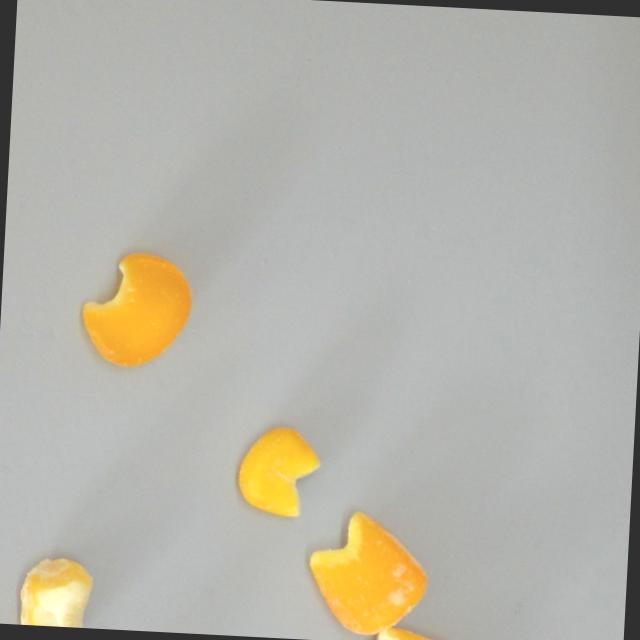no_canjicado: (78, 247, 197, 370), (239, 424, 319, 517)
pelicula: (304, 507, 433, 640), (17, 553, 96, 628), (344, 624, 488, 640)
